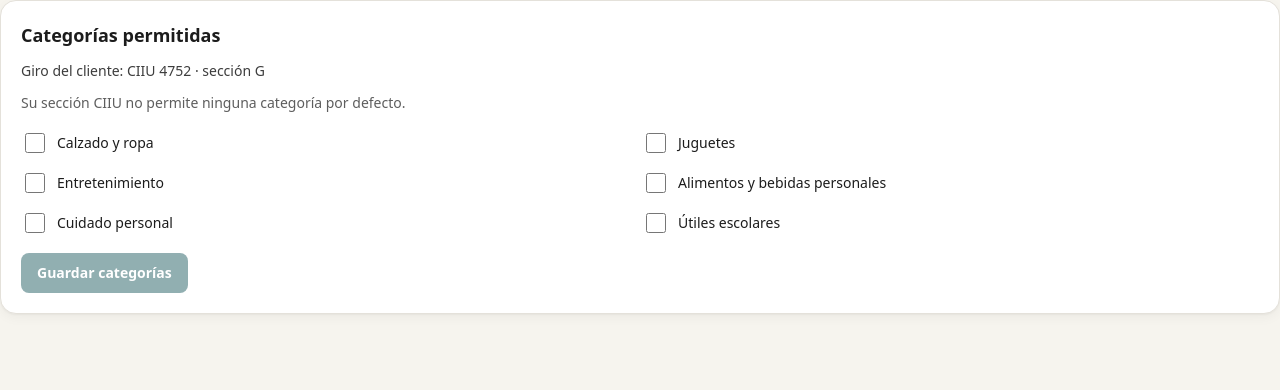
<CategoriasCliente /> · permitir y quitar (CA-1) › 409 cliente_archivado: mensaje en español (sin el código) y las casillas conservan lo elegido
Click the checkbox labelled "Juguetes" at (656, 143), box [646, 133, 666, 153]
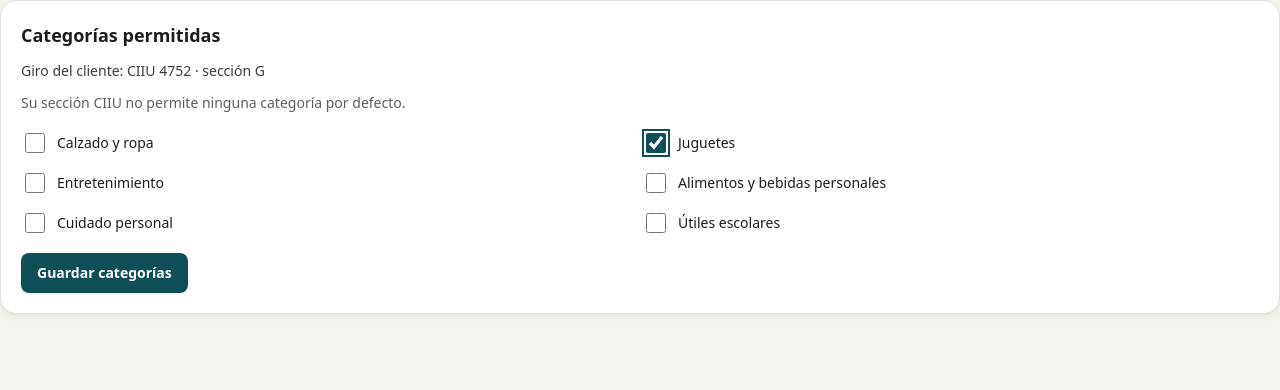
Click the button "Guardar categorías" at (104, 273), box [21, 253, 188, 293]
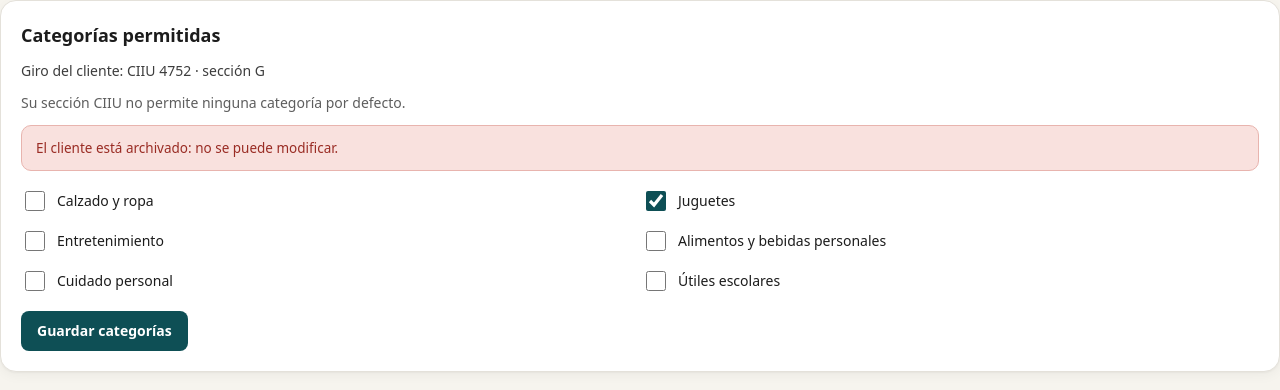
Check: the message reads "El cliente está archivado: no se puede modificar.", box [36, 139, 338, 157]
